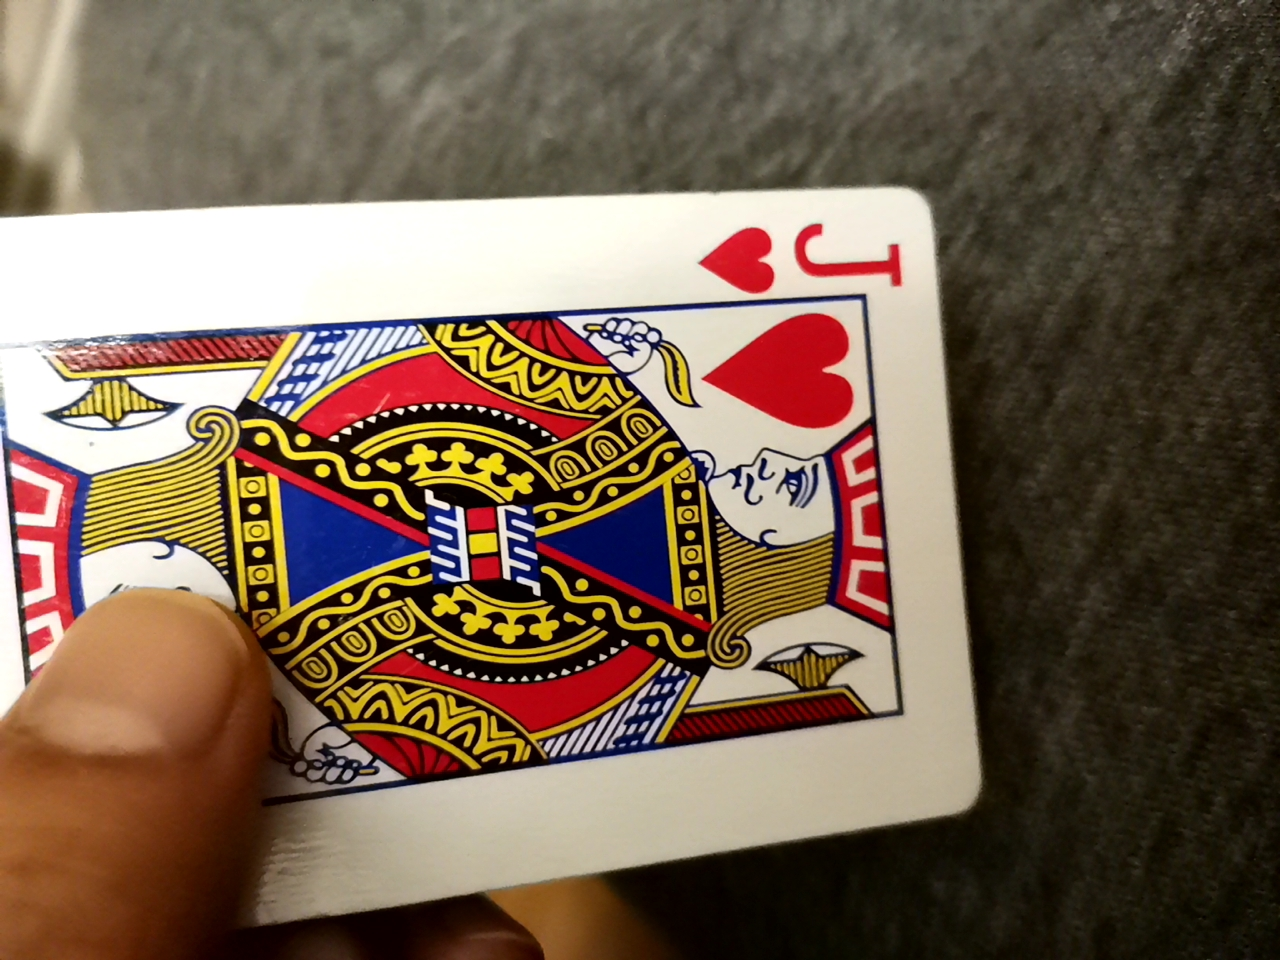hx j: (0, 184, 988, 917)
